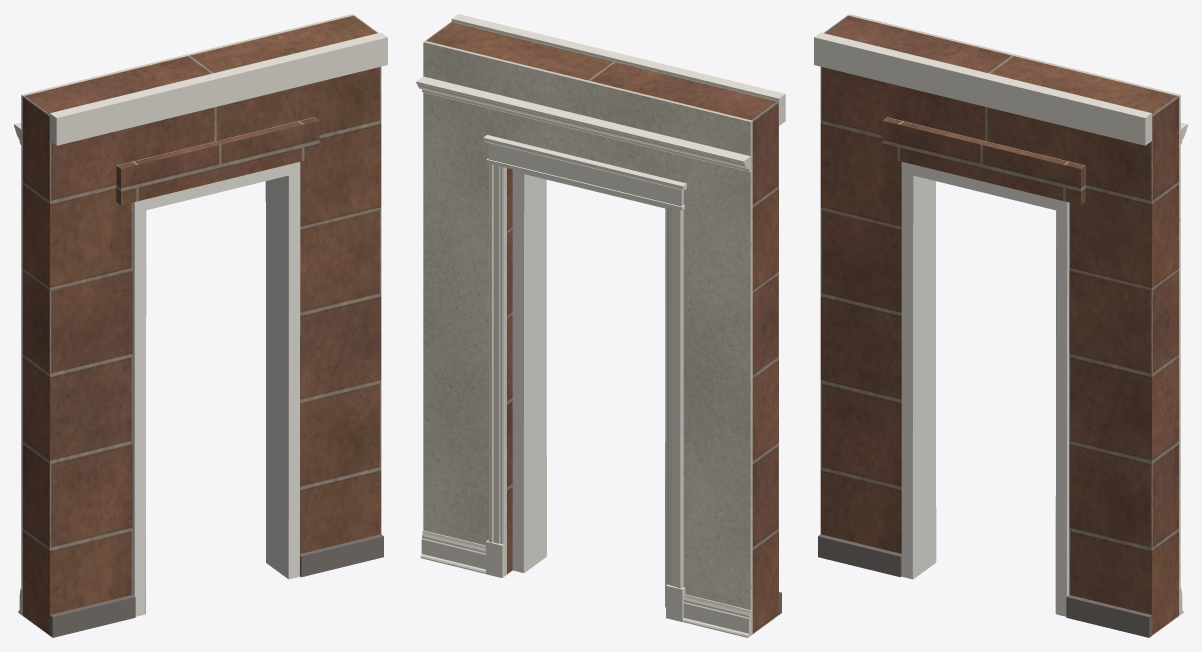
Rendered from wall_stone_door.glb.
3 views of the same model, side by side, from view 1: azimuth 30°, elevation 25°; view 2: azimuth 150°, elevation 25°; view 3: azimuth 330°, elevation 25° (orthographic).
Parts seen in each view (by area): view 1: wall_stone_door_stone, wall_stone_door_frame, wall_stone_door_trim, wall_stone_door_dark, wall_stone_door_plaster; view 2: wall_stone_door_plaster, molduras, wall_stone_door_stone, wall_stone_door_frame, wall_stone_door_trim; view 3: wall_stone_door_stone, wall_stone_door_frame, wall_stone_door_trim, wall_stone_door_dark, wall_stone_door_plaster.
Boxes of the visible parts, <box> form: wall_stone_door_stone: <box>23,15,381,635</box>; wall_stone_door_frame: <box>132,162,300,616</box>; wall_stone_door_trim: <box>50,32,387,145</box>; wall_stone_door_dark: <box>50,534,383,637</box>; wall_stone_door_plaster: <box>21,14,353,615</box>; wall_stone_door_plaster: <box>423,41,752,635</box>; molduras: <box>416,76,750,637</box>; wall_stone_door_stone: <box>425,21,778,633</box>; wall_stone_door_frame: <box>512,169,667,607</box>; wall_stone_door_trim: <box>451,14,785,125</box>; wall_stone_door_stone: <box>820,15,1178,635</box>; wall_stone_door_frame: <box>901,162,1069,616</box>; wall_stone_door_trim: <box>814,32,1151,145</box>; wall_stone_door_dark: <box>818,534,1151,637</box>; wall_stone_door_plaster: <box>848,14,1180,615</box>.
Size of the model in its own units: 2 by 3.02 by 0.445.
Materials: 5 (2 with a texture image).
